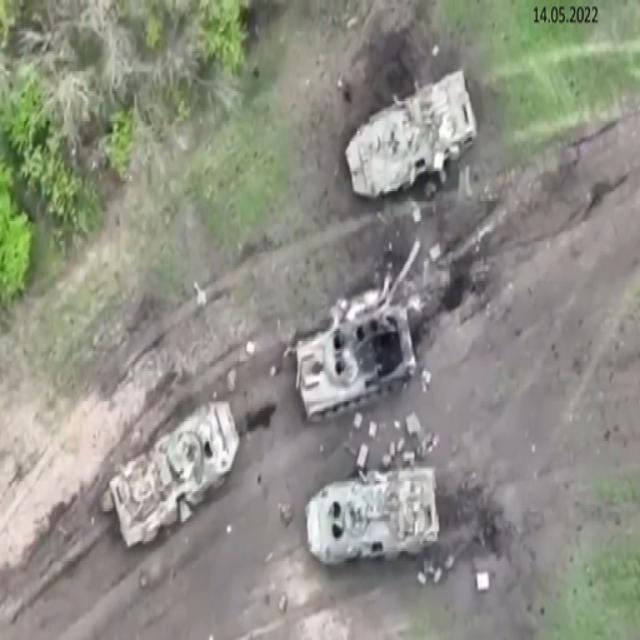APC-IFV: (108, 391, 242, 556), (344, 65, 478, 211), (294, 291, 422, 427), (298, 458, 438, 566)
